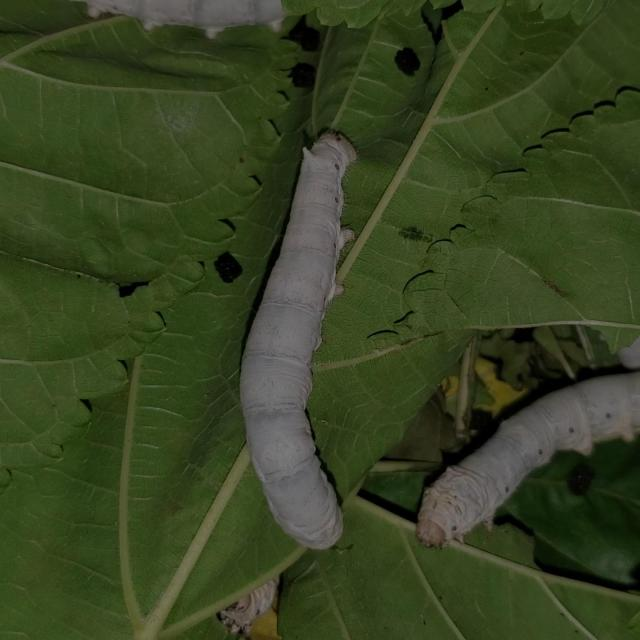Healthy: (221, 105, 392, 571), (412, 337, 640, 599)
